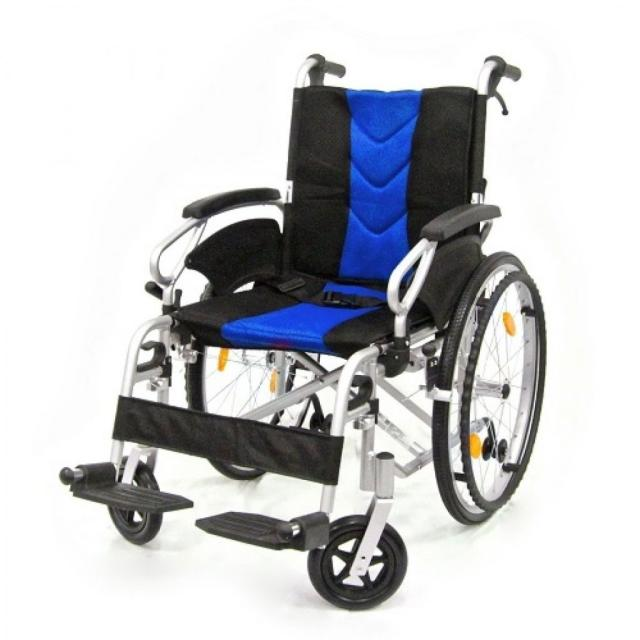wheelchair: (38, 31, 587, 618)
